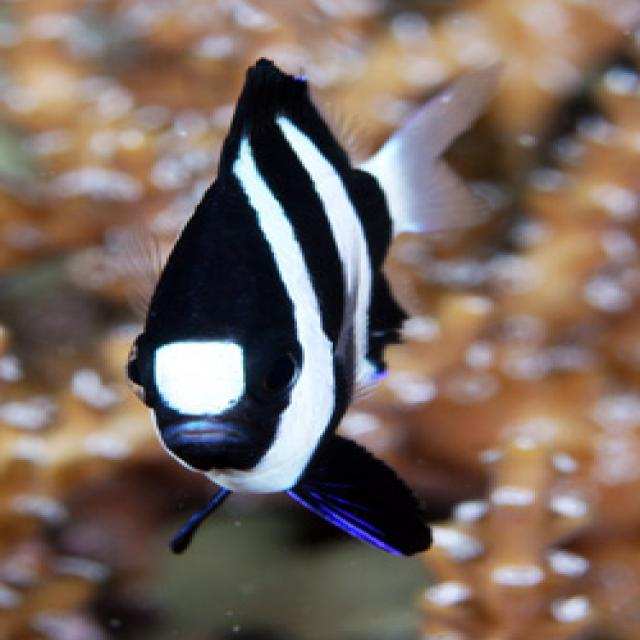ThreeStripedDamselfish: (121, 55, 503, 559)
